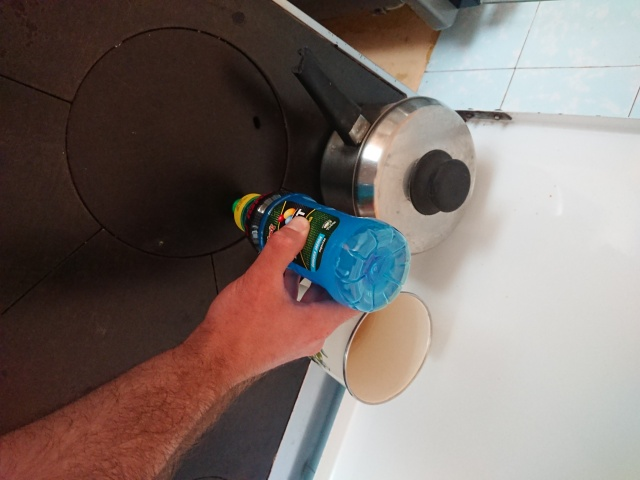Vindi Iso Sport Forest Strawberries 500mL: (230, 187, 411, 315)
